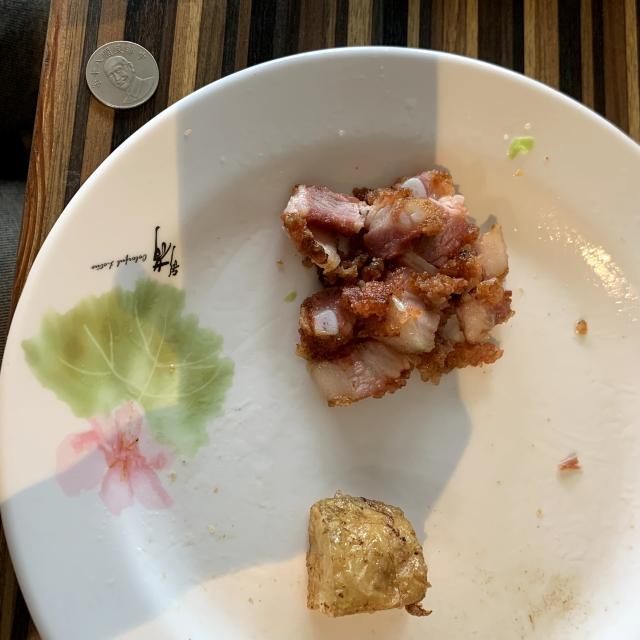coin: (86, 41, 159, 109)
fried potato: (306, 491, 431, 618)
red grilled pork: (281, 170, 512, 406)
